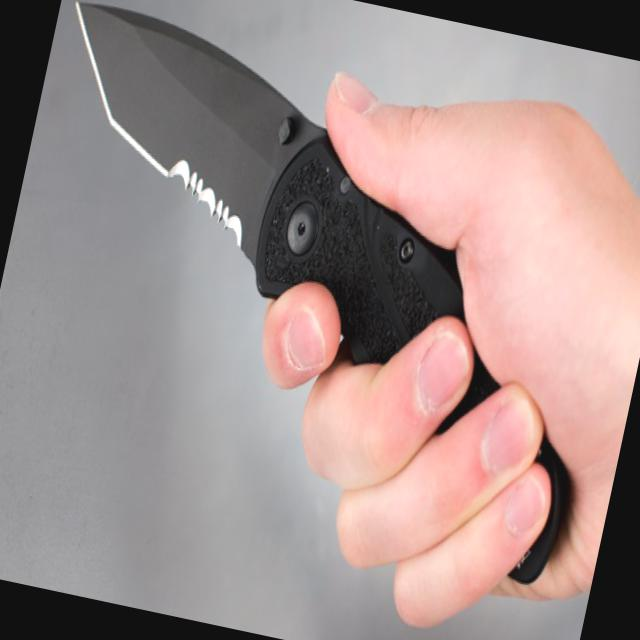knife: (0, 0, 537, 457)
